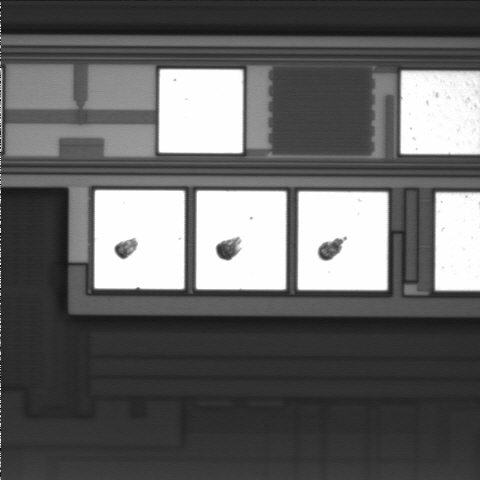pad: (94, 190, 185, 289), (196, 191, 286, 290), (298, 192, 388, 290), (159, 69, 243, 153)
